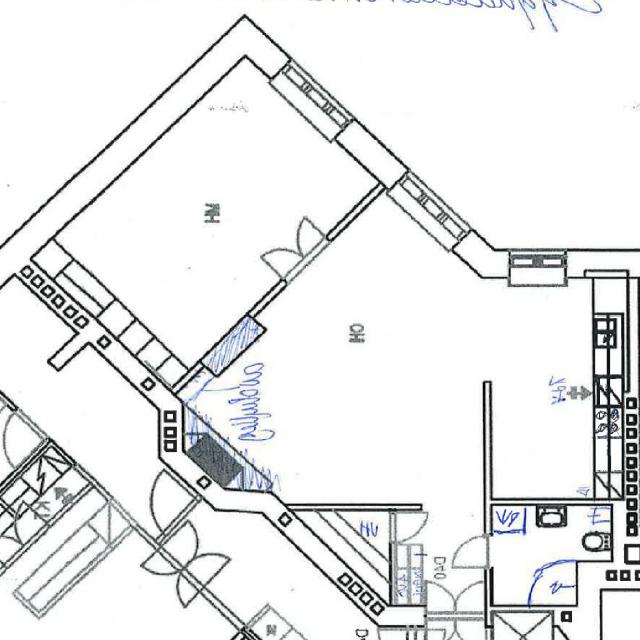door: (281, 215, 332, 264), (260, 236, 311, 285), (426, 578, 455, 626), (455, 578, 483, 626), (455, 537, 492, 567), (389, 512, 426, 542), (426, 605, 455, 640), (455, 605, 483, 640)
